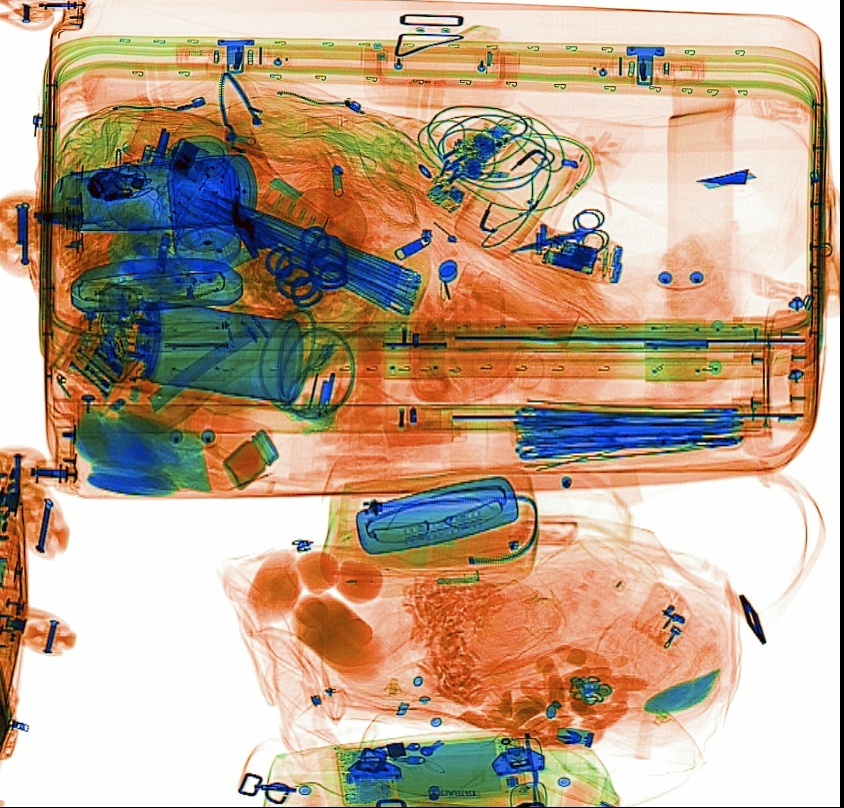scissors: (508, 206, 610, 256)
